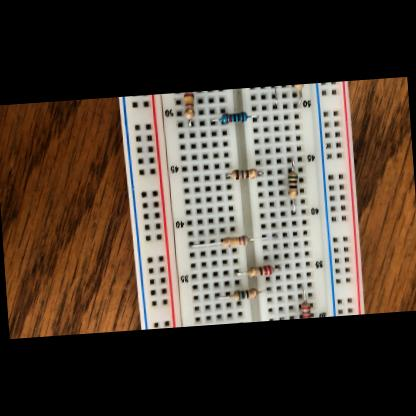breadboard: (116, 81, 364, 331)
resistor: (232, 288, 258, 302), (247, 265, 274, 278), (221, 235, 250, 247), (182, 92, 194, 120), (286, 171, 298, 199), (220, 112, 248, 124), (230, 168, 257, 180), (300, 300, 310, 318)
wire: (188, 242, 220, 248), (249, 235, 277, 241), (293, 90, 302, 107), (286, 157, 294, 171), (271, 86, 276, 108), (215, 294, 232, 300), (298, 286, 304, 302), (258, 288, 270, 294), (234, 270, 245, 276), (290, 198, 294, 214), (246, 115, 258, 120), (210, 119, 221, 124), (188, 119, 192, 129), (274, 266, 280, 272), (256, 172, 262, 175), (226, 175, 231, 178)
